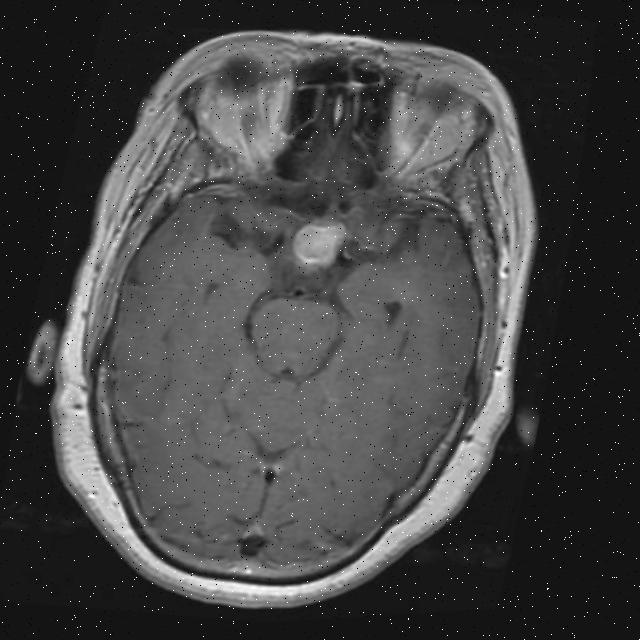Pituitary: (288, 217, 348, 269)
